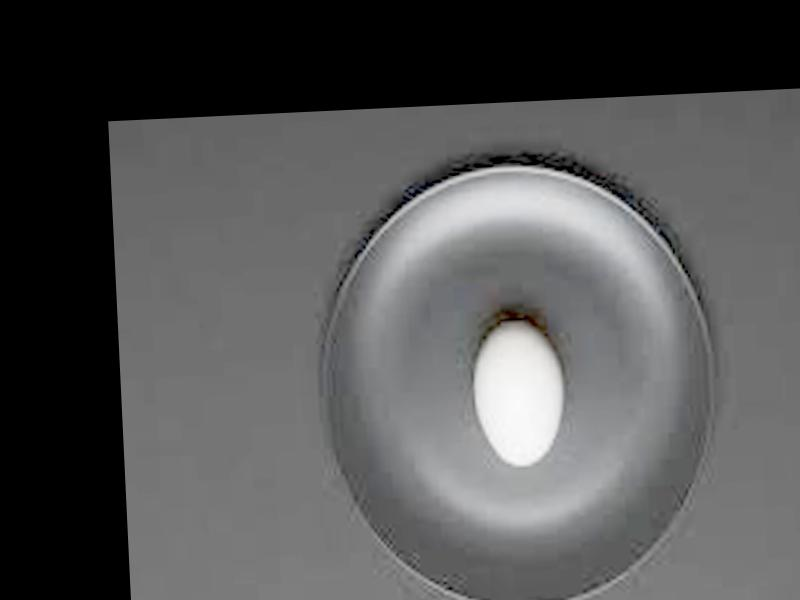Eggs: (471, 322, 567, 467)
